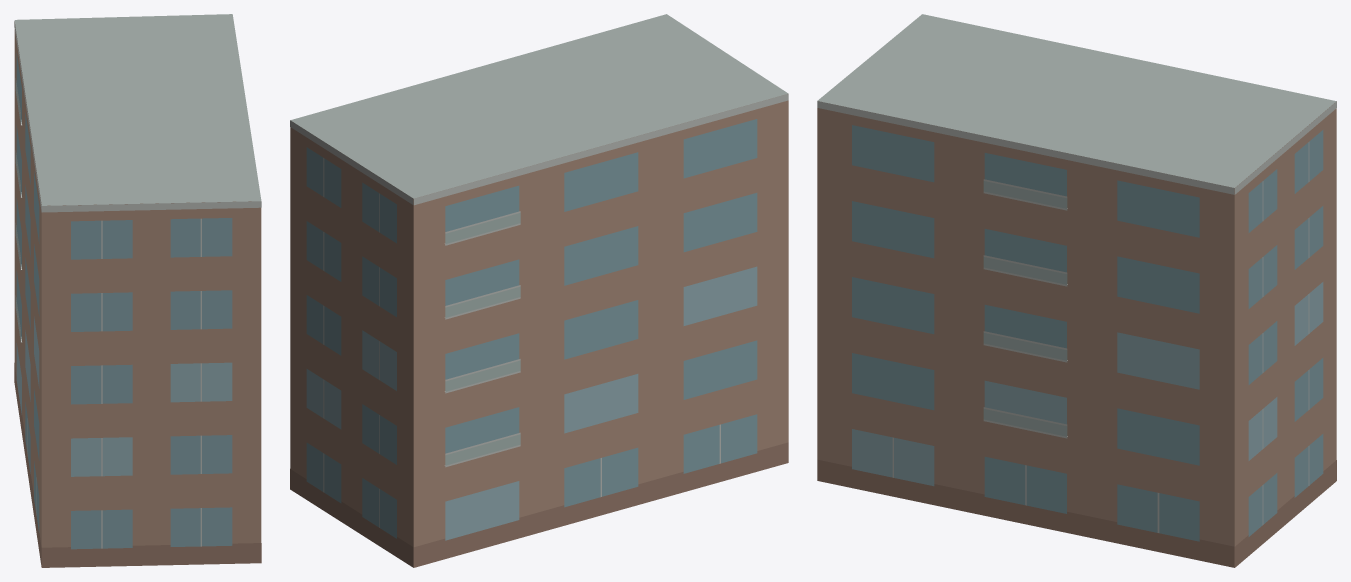
File: survey-upis-33030477.glb
3 views of the same model, side by side, from view 1: azimuth 30°, elevation 25°; view 2: azimuth 150°, elevation 25°; view 3: azimuth 270°, elevation 25° (orthographic). The views are drawn at different scales.
Visible parts, largest first — view 1: survey-upis-33030477.tmp; view 2: survey-upis-33030477.tmp; view 3: survey-upis-33030477.tmp.
Boxes of the visible parts, left/top/right/bottom form: survey-upis-33030477.tmp: left=14, top=14, right=261, bottom=567; survey-upis-33030477.tmp: left=290, top=14, right=788, bottom=567; survey-upis-33030477.tmp: left=817, top=14, right=1336, bottom=567.
Bounding box in the file's own units: 13.17 × 13.4 × 16.62.
